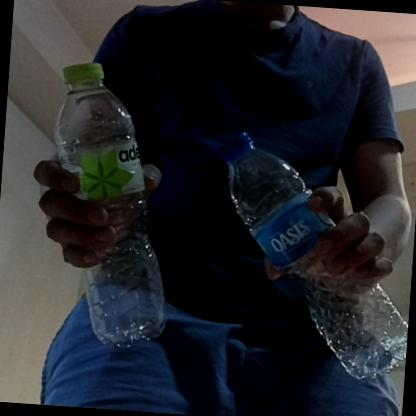plastic_bottles: (202, 126, 416, 382), (39, 58, 185, 355)
